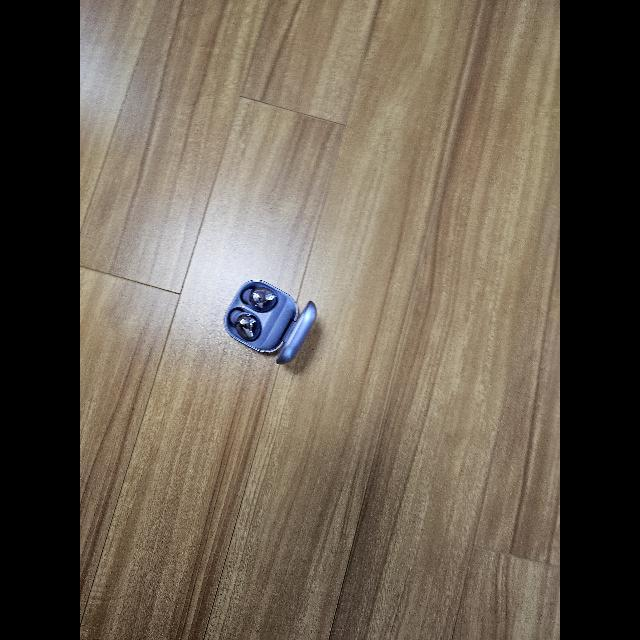buds-pro: (222, 277, 320, 367)
